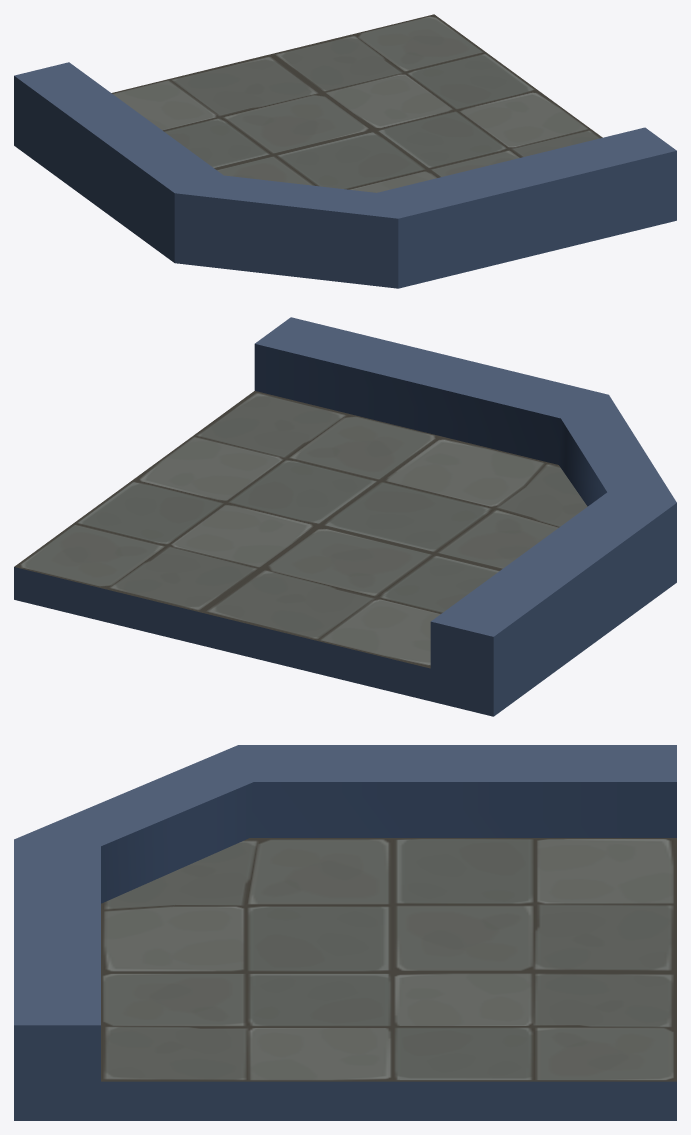
Rendered from RoofTop_A2.fbx.
The picture shows the model from 3 angles, top to bottom: view 1: azimuth 30°, elevation 25°; view 2: azimuth 150°, elevation 25°; view 3: azimuth 270°, elevation 25°; orthographic projection. The views are drawn at different scales.
Visible parts, largest first — view 1: RoofTop_A2; view 2: RoofTop_A2; view 3: RoofTop_A2.
Boxes of the visible parts, x1,y1,x2,y2 form: RoofTop_A2: [14, 14, 676, 288]; RoofTop_A2: [14, 317, 676, 716]; RoofTop_A2: [14, 745, 676, 1120].
Bounding box in the file's own units: 610 × 97.06 × 610.
